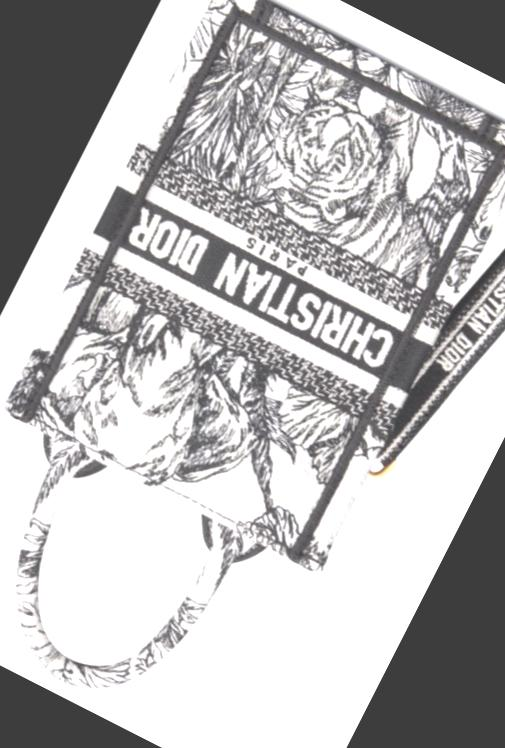DIOR: (95, 166, 427, 403), (415, 209, 505, 398)
